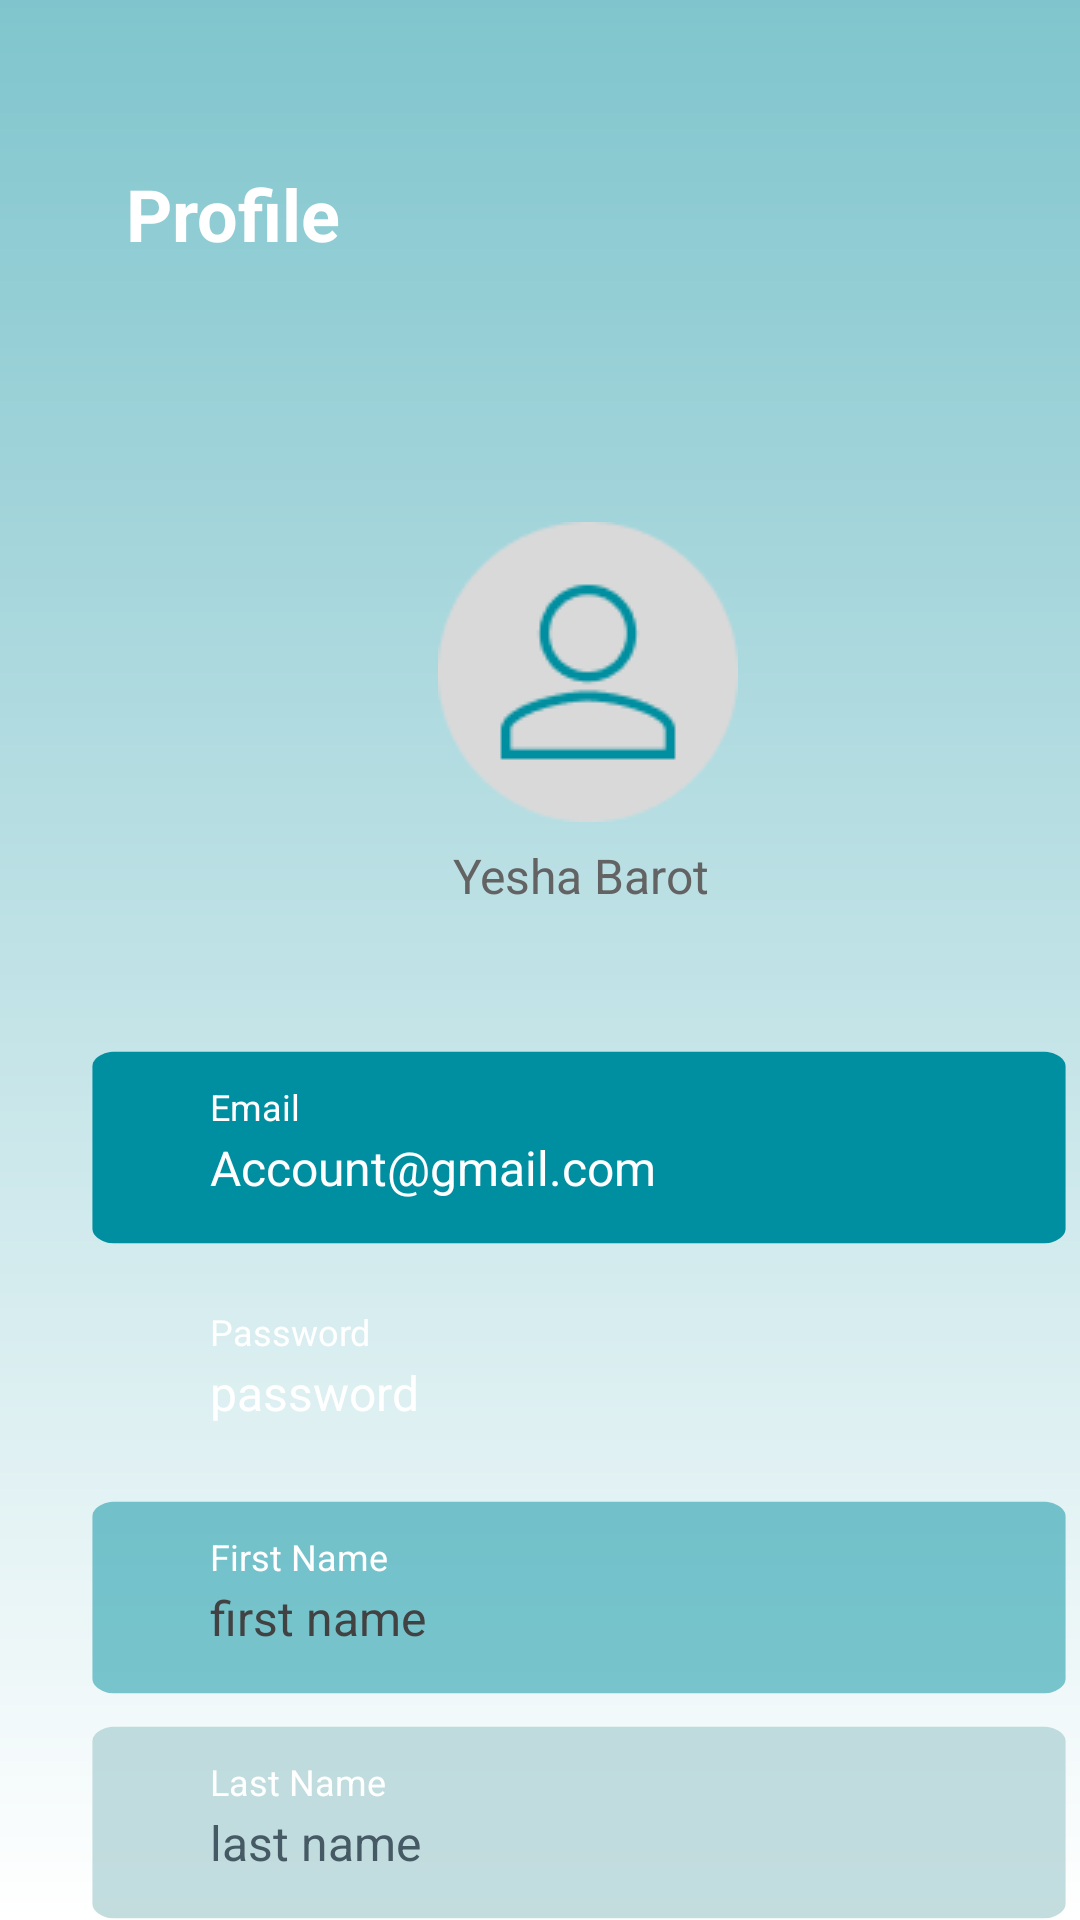

Locate icon controls on the screen. Image size 1080*1920, boxes as (x1, y1, x2, y2).
profile person: (438, 522, 738, 822)
